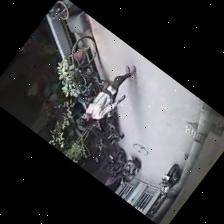person: (80, 65, 135, 126)
